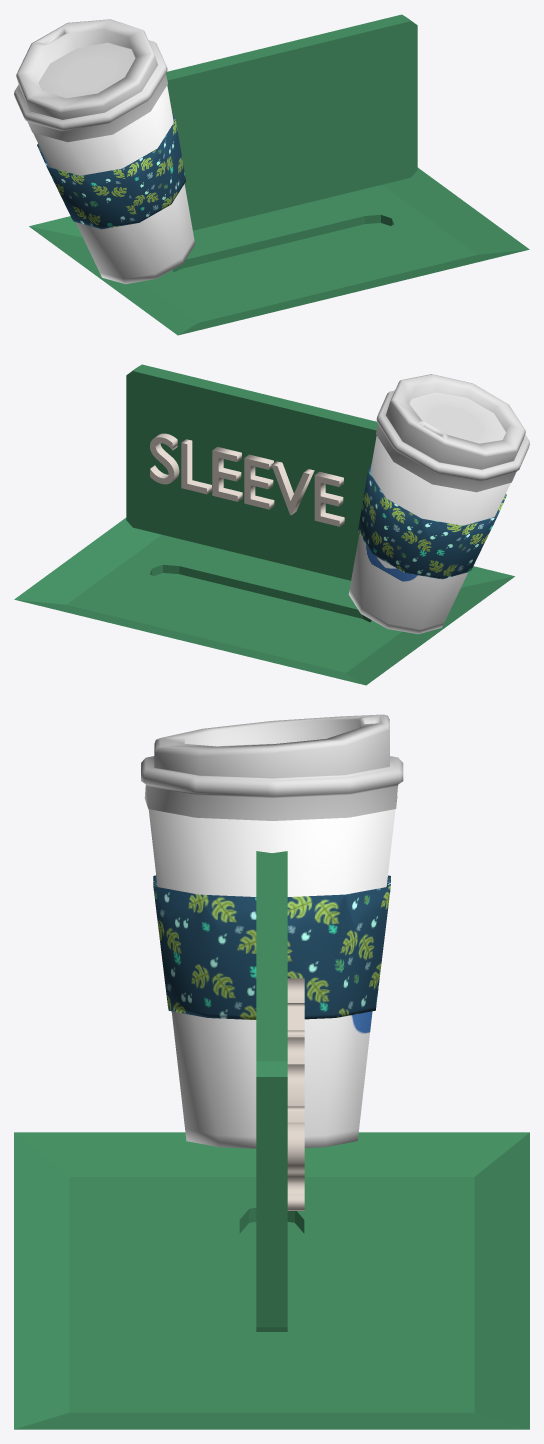
File: Sleeve_Machine.fbx
3 renders of one model, top to bottom at view 1: azimuth 30°, elevation 25°; view 2: azimuth 150°, elevation 25°; view 3: azimuth 270°, elevation 25°, orthographic. The views are drawn at different scales.
Visible parts, largest first — view 1: Tabela, sleeve mazgal, Lid.001, Cupofcoffee.004, Sleeve.002; view 2: sleeve mazgal, Tabela, Lid.001, Cupofcoffee.004, Sleeve.002, Text.007; view 3: sleeve mazgal, Cupofcoffee.004, Lid.001, Sleeve.002, Tabela, Text.007.
Boxes of the visible parts, x1,y1,x2,y2 form: Tabela: (166,14,417,230); sleeve mazgal: (29,167,529,335); Lid.001: (14,19,167,142); Cupofcoffee.004: (33,85,195,284); Sleeve.002: (37,112,185,229); sleeve mazgal: (14,518,514,685); Tabela: (126,364,377,580); Lid.001: (376,374,529,492); Cupofcoffee.004: (348,436,510,634); Sleeve.002: (358,462,506,579); Text.007: (150,433,344,526); sleeve mazgal: (14,1132,529,1429); Cupofcoffee.004: (148,809,395,1148); Lid.001: (141,714,403,820); Sleeve.002: (153,875,390,1019); Tabela: (256,851,287,1331); Text.007: (287,978,304,1210).
Bounding box in the file's own units: 0.3811 × 0.2178 × 0.2288.
Materials: 4 (1 with a texture image).
